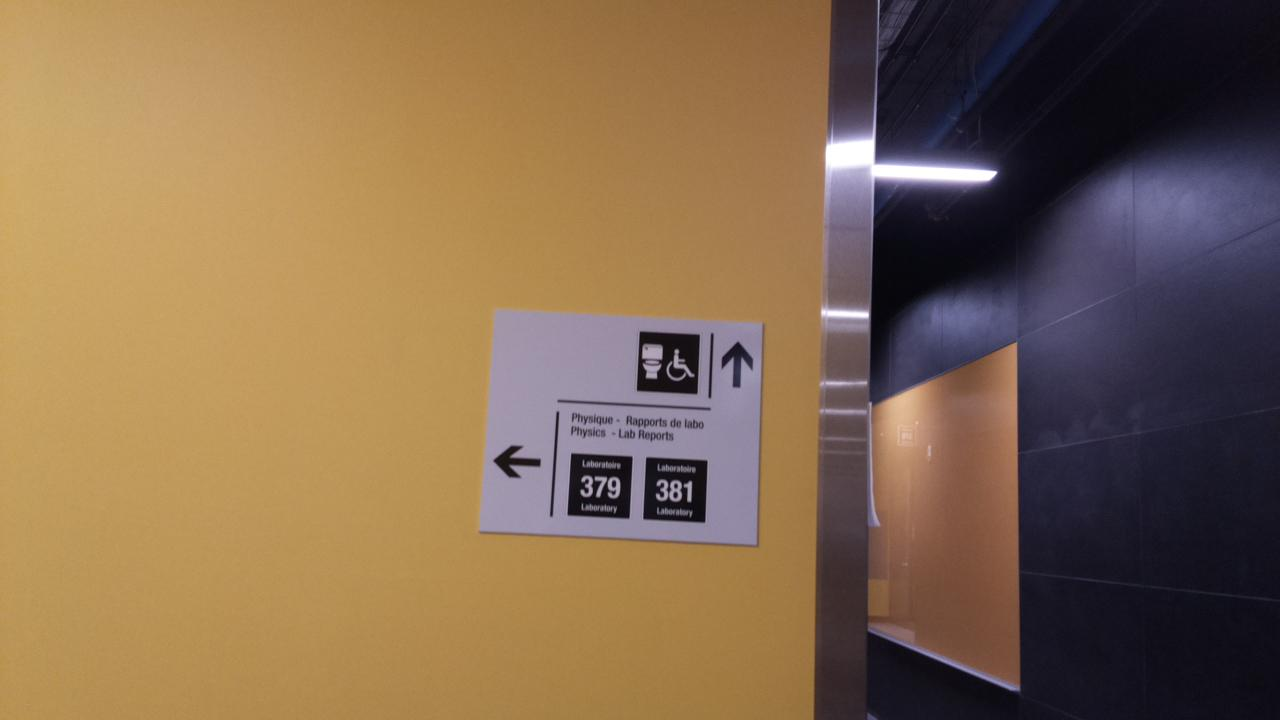sign: (478, 311, 764, 541)
